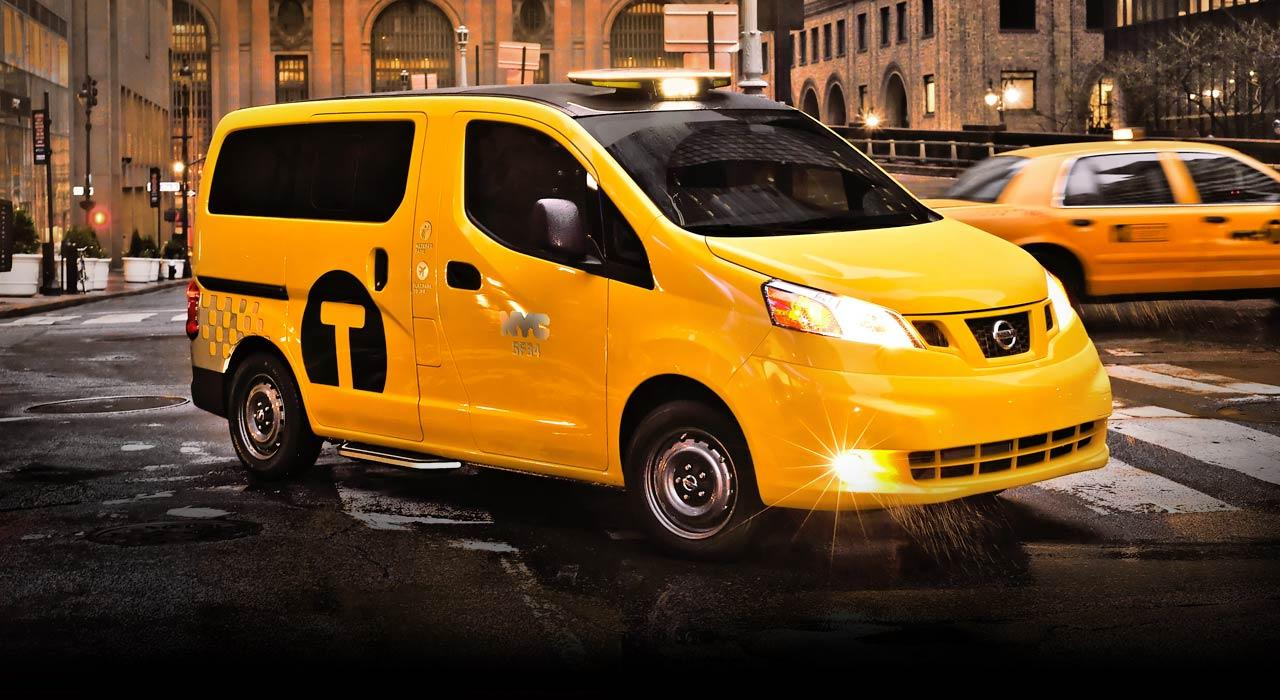taxi: (165, 90, 1132, 558)
